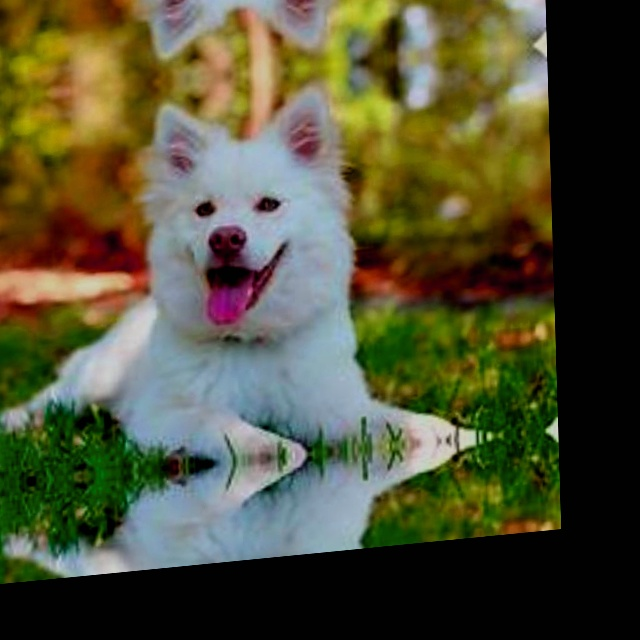dog: (17, 92, 402, 481), (28, 444, 405, 581), (14, 0, 390, 63)
